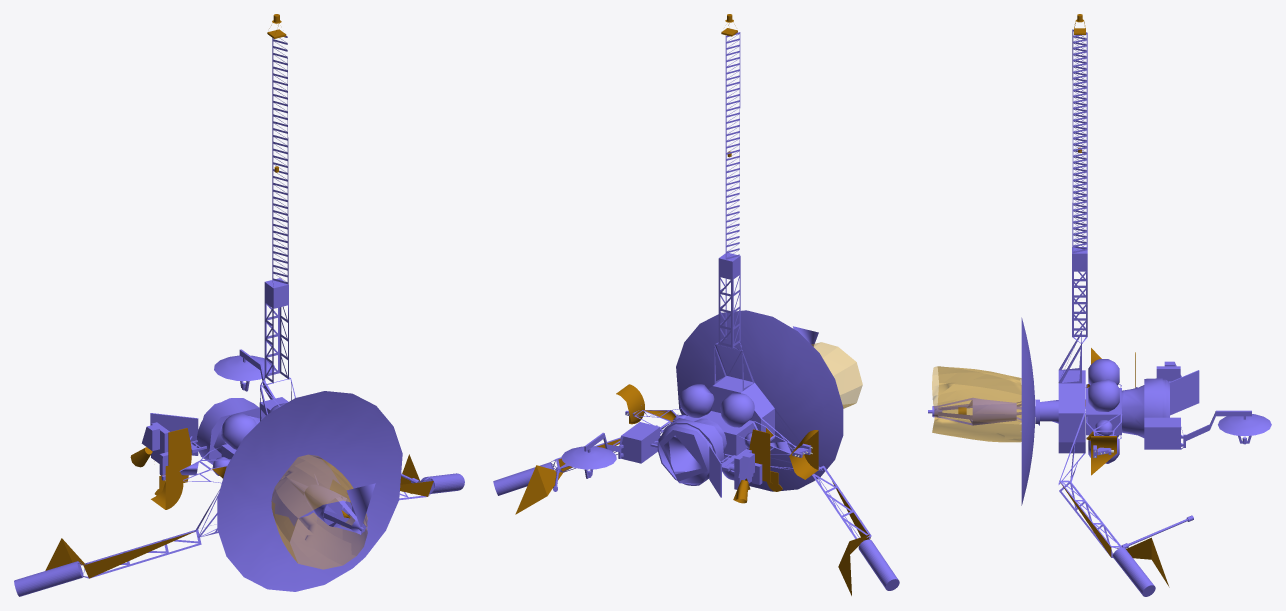
The model's file is galileo.glb.
The picture shows the model from 3 angles, left to right: view 1: azimuth 30°, elevation 25°; view 2: azimuth 150°, elevation 25°; view 3: azimuth 270°, elevation 25°; orthographic projection. The views are drawn at different scales.
Visible parts, largest first — view 1: IndexedF11, IndexedF55, IndexedF10; view 2: IndexedF11, IndexedF10, IndexedF55; view 3: IndexedF11, IndexedF55, IndexedF10.
Part boxes in pixels (left/top/right/bottom): IndexedF11: left=14, top=36, right=464, bottom=596; IndexedF55: left=271, top=454, right=367, bottom=569; IndexedF10: left=45, top=14, right=433, bottom=578; IndexedF11: left=493, top=32, right=899, bottom=590; IndexedF10: left=515, top=14, right=870, bottom=595; IndexedF55: left=811, top=342, right=862, bottom=408; IndexedF11: left=928, top=29, right=1271, bottom=596; IndexedF55: left=932, top=366, right=1021, bottom=442; IndexedF10: left=958, top=14, right=1169, bottom=587.
Size of the model in its own units: 194 by 232 by 147.
